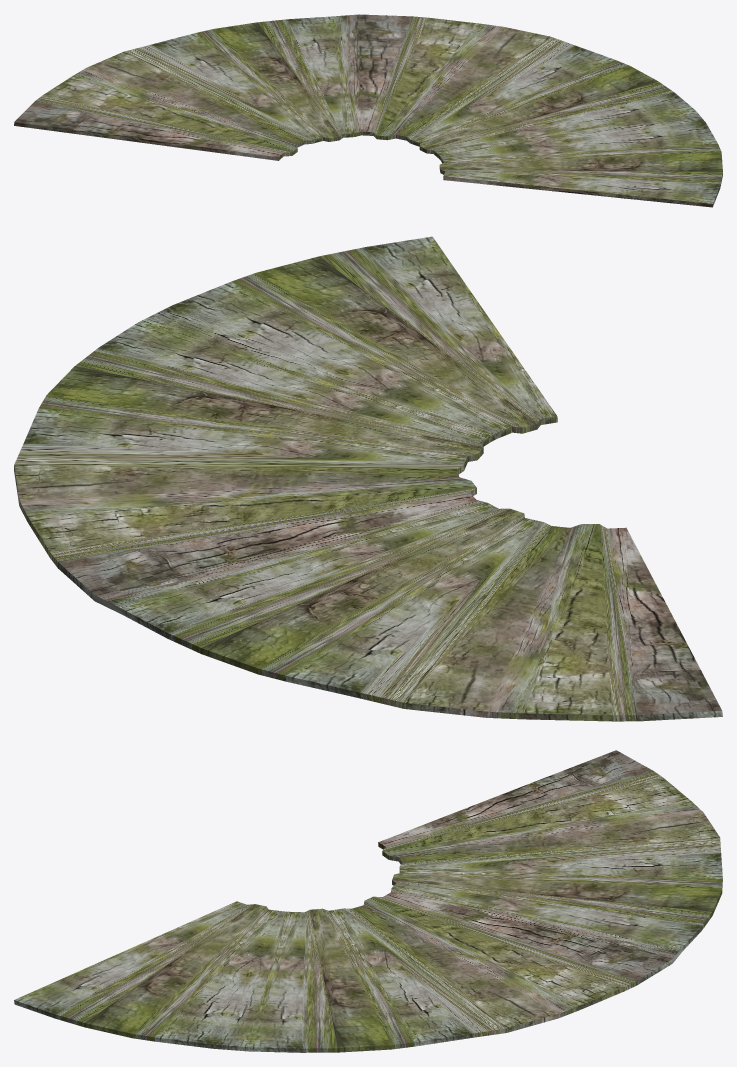
Rendered from GAMEOBJECT-35.fbx.
3 views of the same model, one above another, from view 1: azimuth 30°, elevation 25°; view 2: azimuth 150°, elevation 25°; view 3: azimuth 270°, elevation 25° (orthographic). The views are drawn at different scales.
Visible parts, largest first — view 1: GameObject__35_; view 2: GameObject__35_; view 3: GameObject__35_.
Part boxes in pixels (x1,y1,x2,y2): GameObject__35_: (14,14,722,207); GameObject__35_: (14,236,722,721); GameObject__35_: (14,750,722,1052).
Size of the model in its own units: 437 by 3 by 438.
